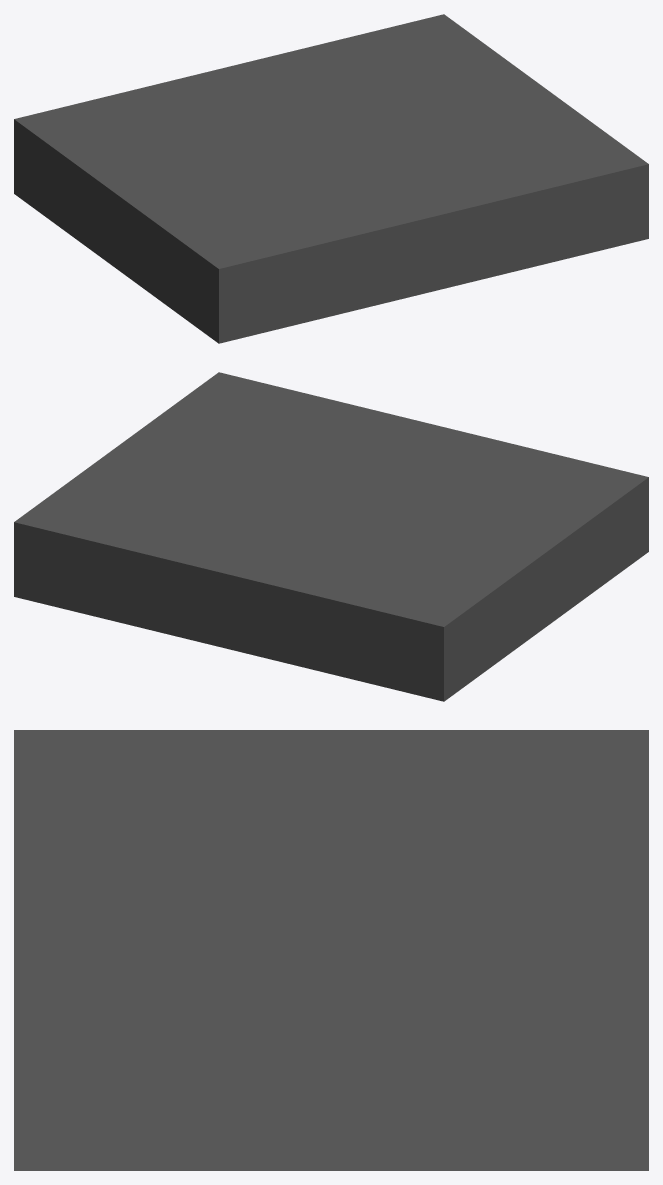
Rendered from Itr_Bartable_Base_Left_04.FBX.
3 renders of one model, top to bottom at view 1: azimuth 30°, elevation 25°; view 2: azimuth 150°, elevation 25°; view 3: azimuth 270°, elevation 25°, orthographic. The views are drawn at different scales.
Parts seen in each view (by area): view 1: Itr_Bartable_Base_Left_04; view 2: Itr_Bartable_Base_Left_04; view 3: Itr_Bartable_Base_Left_04.
Boxes of the visible parts, <box> form: Itr_Bartable_Base_Left_04: <box>14,14,648,343</box>; Itr_Bartable_Base_Left_04: <box>14,372,648,701</box>; Itr_Bartable_Base_Left_04: <box>14,730,648,1170</box>.
Size of the model in its own units: 23.05 by 3.82 by 19.02.
